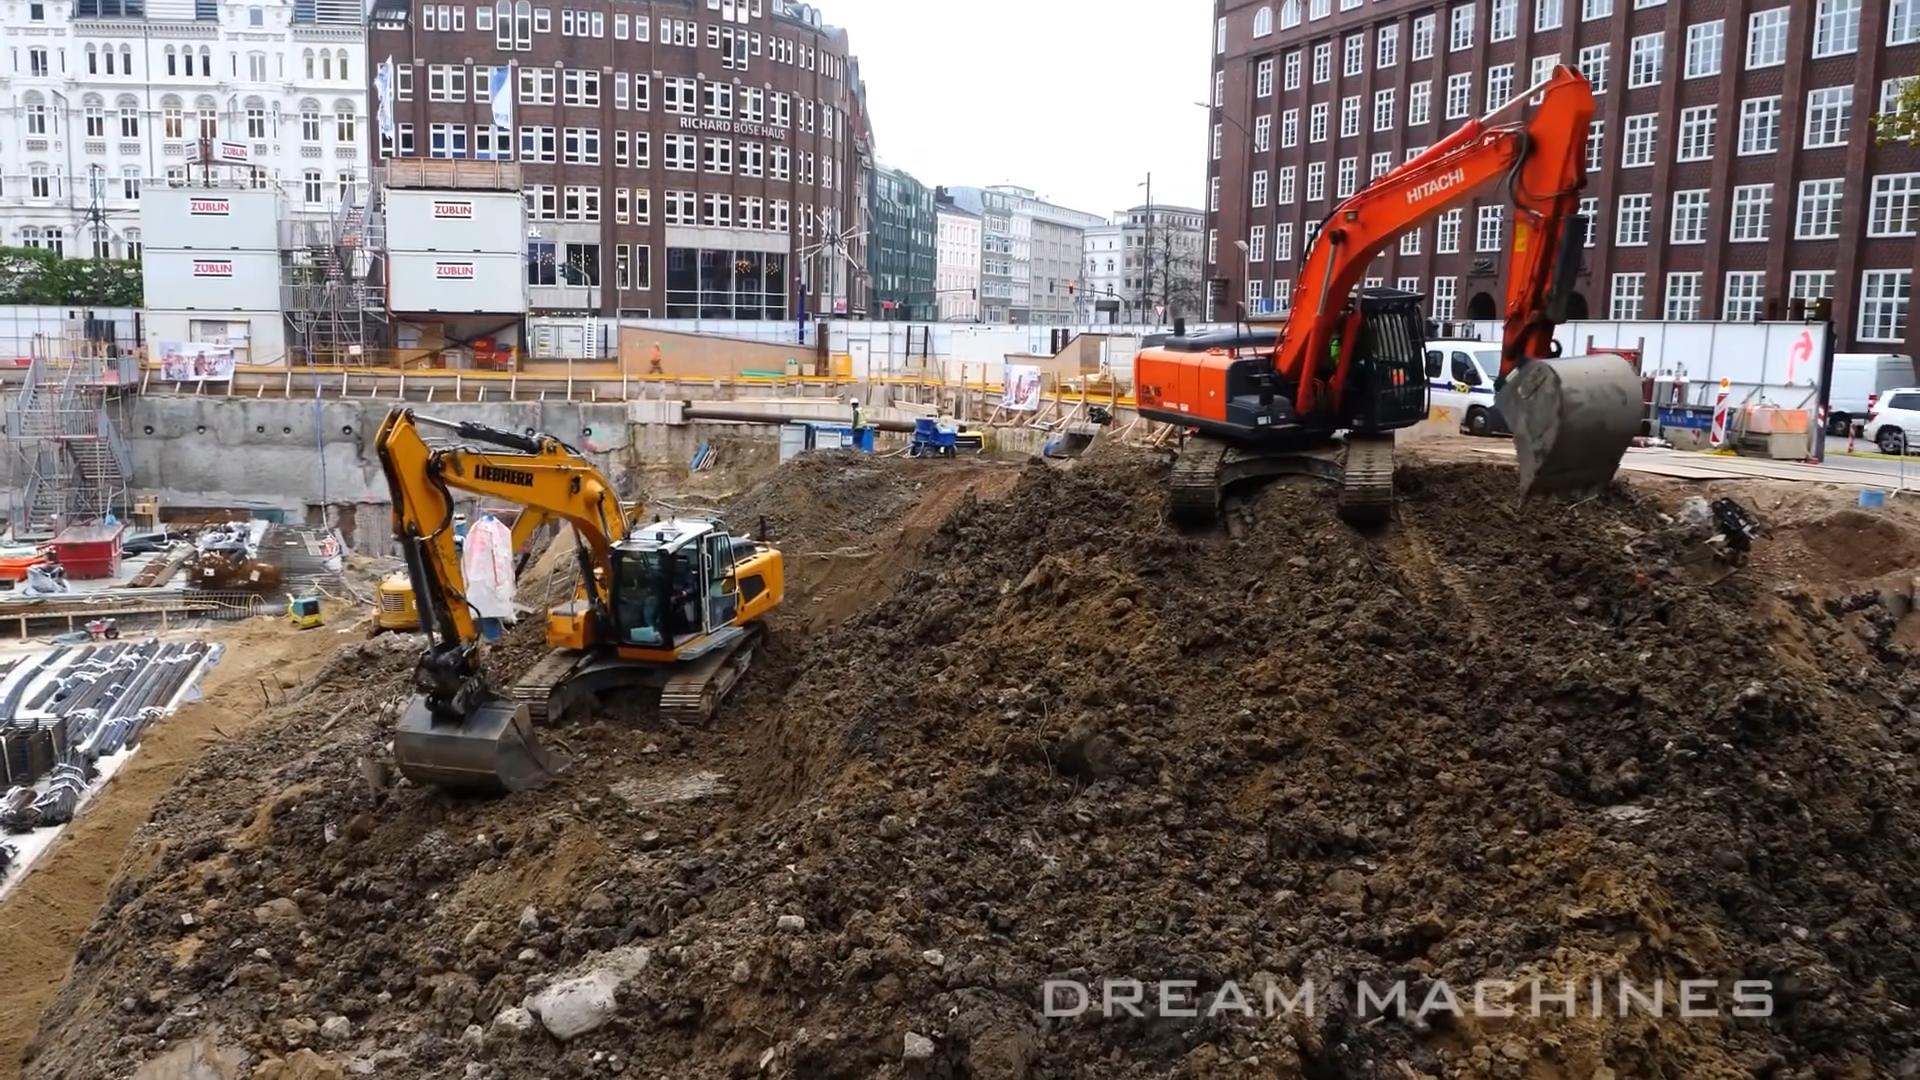excavator: (1141, 49, 1679, 524), (330, 382, 829, 774)
